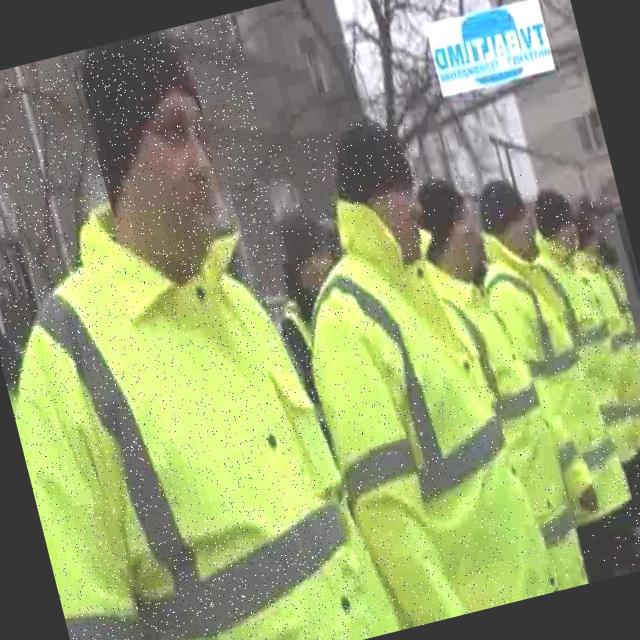no-helmet: (21, 34, 253, 330), (286, 88, 458, 296)
vest: (0, 157, 401, 640), (269, 167, 562, 636), (423, 223, 619, 602), (475, 212, 638, 537), (531, 217, 640, 474), (574, 237, 640, 455)
